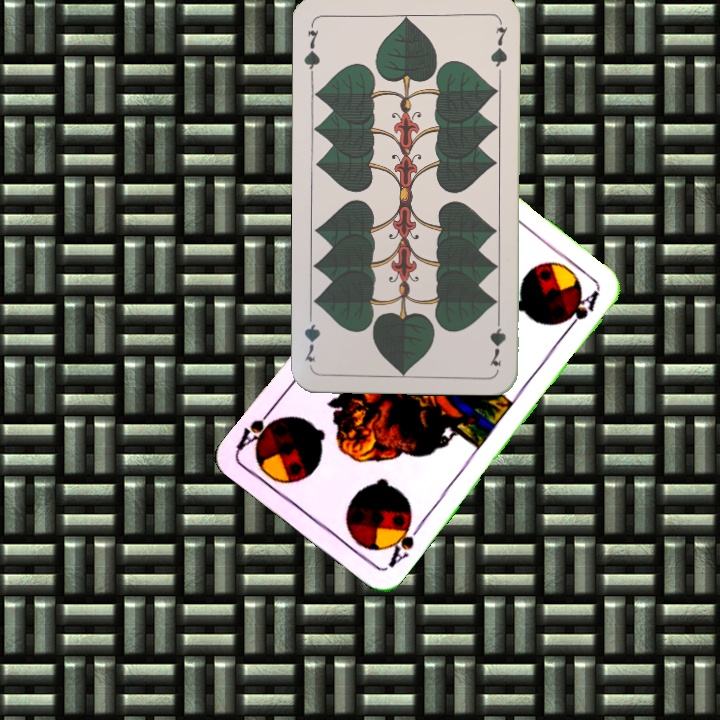G7: (486, 310, 509, 369), (300, 19, 322, 78)
SA: (382, 513, 425, 571)
